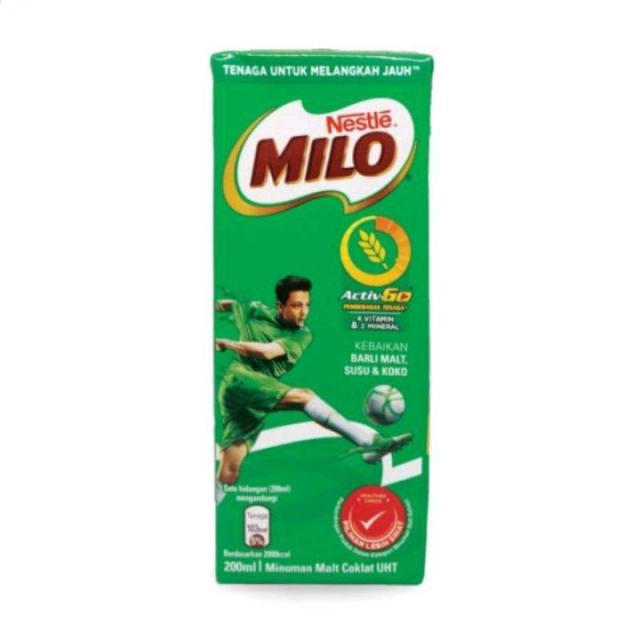drink carton: (210, 43, 431, 584)
